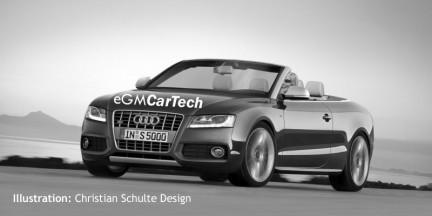car: (80, 57, 376, 195)
